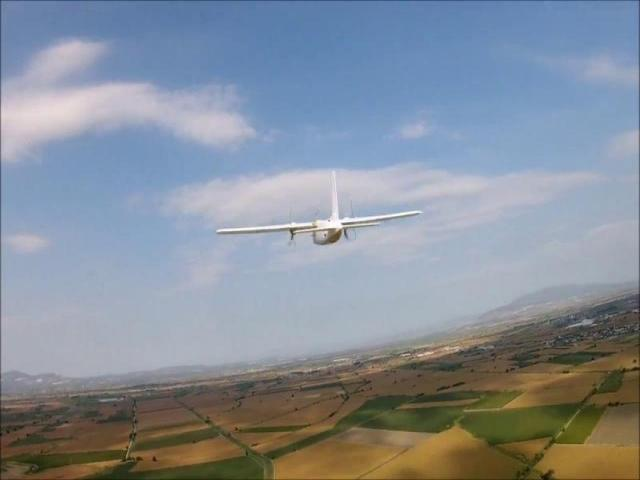hedef: (216, 166, 434, 252)
